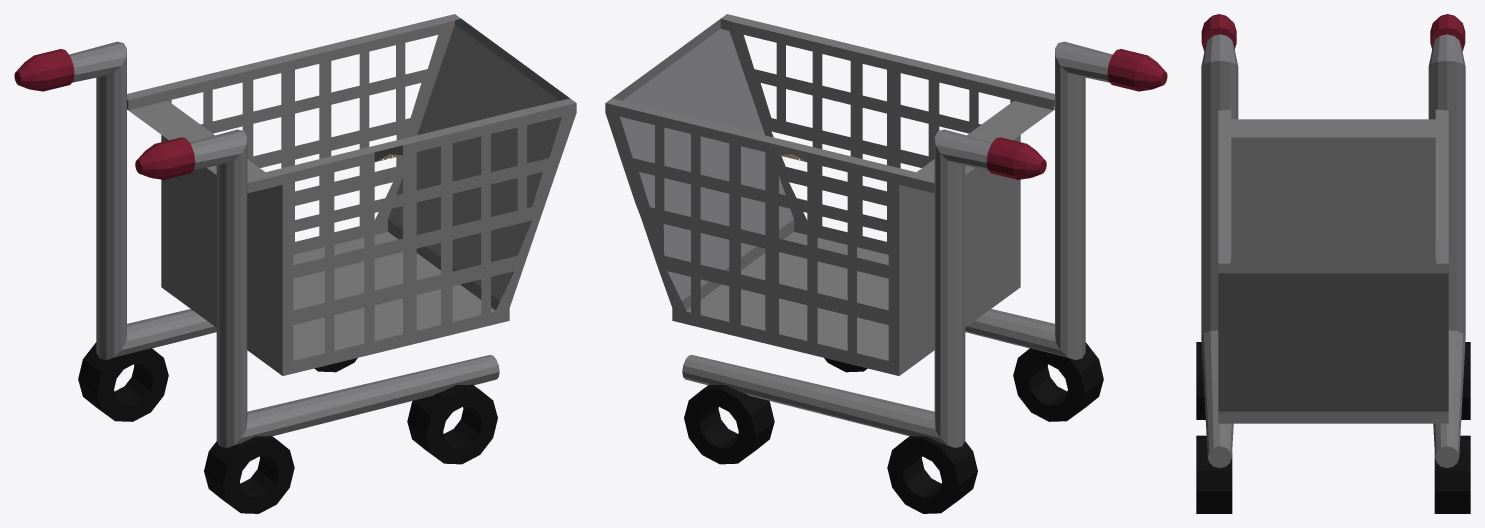
Rendered from cart.fbx.
3 renders of one model, left to right at view 1: azimuth 30°, elevation 25°; view 2: azimuth 150°, elevation 25°; view 3: azimuth 270°, elevation 25°, orthographic. The views are drawn at different scales.
Visible parts, largest first — view 1: Vert; view 2: Vert; view 3: Vert.
Part boxes in pixels (x1=…): Vert: x1=14, y1=14, x2=576, y2=513; Vert: x1=605, y1=14, x2=1167, y2=513; Vert: x1=1196, y1=14, x2=1470, y2=513.
Size of the model in its own units: 206 by 172 by 118.
